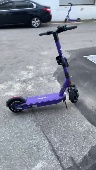beam: (7, 25, 84, 115), (62, 1, 84, 22)
